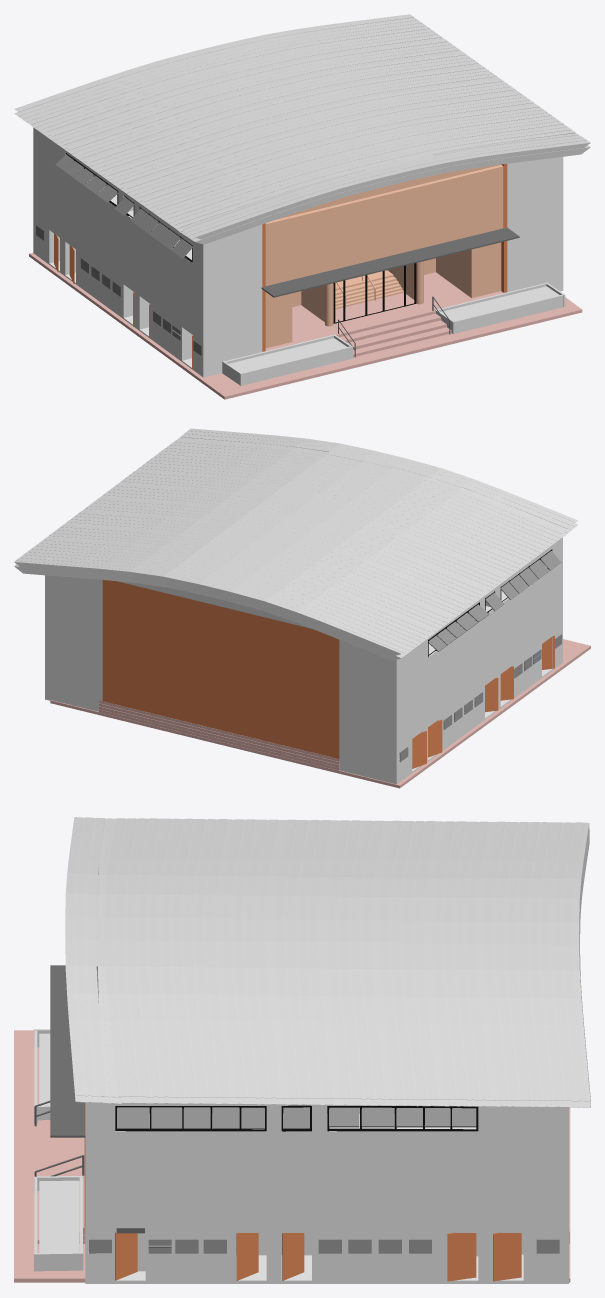
File: Gymnasium .fbx
3 renders of one model, top to bottom at view 1: azimuth 30°, elevation 25°; view 2: azimuth 150°, elevation 25°; view 3: azimuth 270°, elevation 25°, orthographic. The views are drawn at different scales.
Visible parts, largest first — view 1: Cube.037; view 2: Cube.037; view 3: Cube.037.
Part boxes in pixels (box(x1,y1,x2,y2)): Cube.037: box(14, 14, 590, 399); Cube.037: box(14, 428, 590, 788); Cube.037: box(14, 817, 590, 1283).
Bounding box in the file's own units: 3061 × 1225 × 2713.
